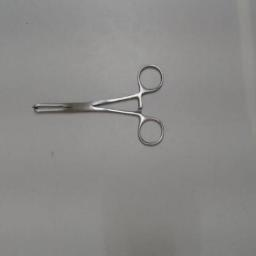Allis Tissue Forceps: (28, 60, 168, 154)
